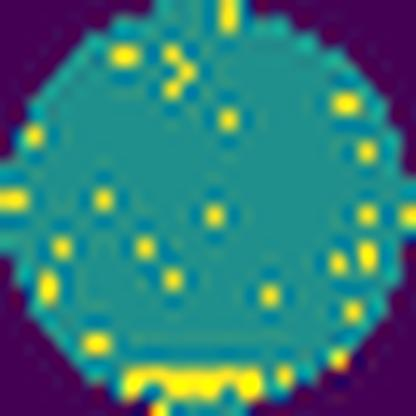Scratch: (117, 363, 265, 408)
